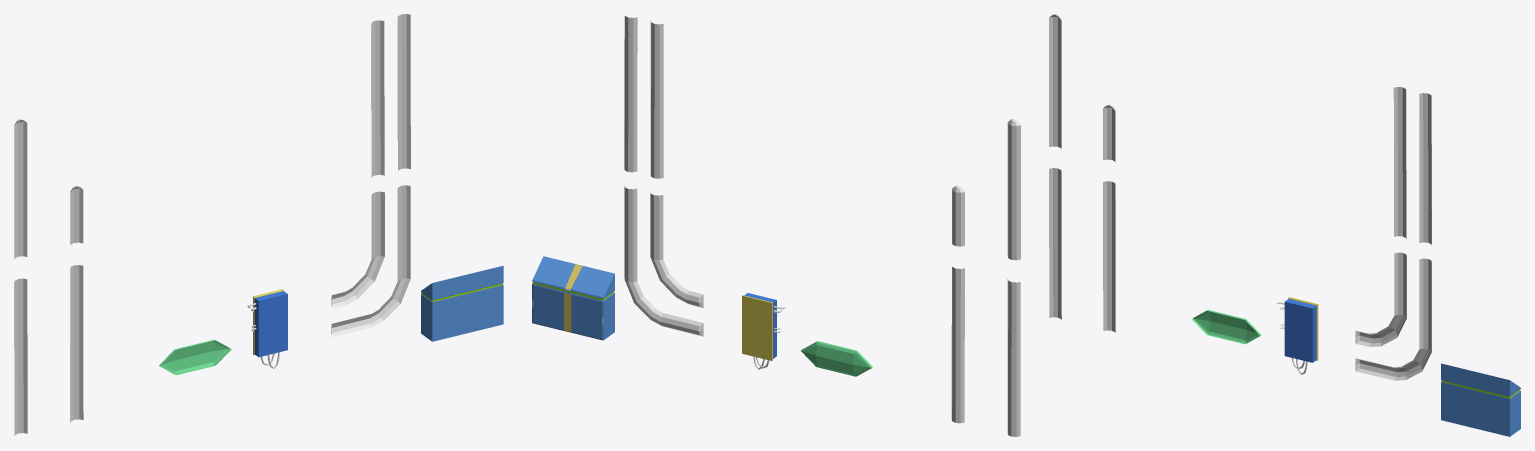
The model's file is CosasRelEnergia+DecoGeneralPEstructura.fbx.
3 renders of one model, left to right at view 1: azimuth 30°, elevation 25°; view 2: azimuth 150°, elevation 25°; view 3: azimuth 330°, elevation 25°, orthographic. The views are drawn at different scales.
Parts seen in each view (by area): view 1: No se como llamarlo, TuboPPuerta1, Transformador, TuboPPuertaArriba2, TuboAbajo1, TuboAbajo2, TuboPPuertaArriba1, TuboArriba1, TuboPPuerta2, Diam, TuboArriba2; view 2: No se como llamarlo, TuboPPuerta1, Transformador, TuboPPuertaArriba1, TuboAbajo1, TuboPPuertaArriba2, TuboAbajo2, TuboArriba1, TuboPPuerta2, Diam, TuboArriba2; view 3: No se como llamarlo, TuboPPuerta1, Transformador, TuboPPuertaArriba2, TuboAbajo1, TuboPPuertaArriba1, TuboAbajo2, TuboArriba1, TuboPPuerta2, Diam, TuboArriba2.
Part boxes in pixels (<box>): No se como llamarlo: <box>421,265,503,341</box>; TuboPPuerta1: <box>331,185,410,337</box>; Transformador: <box>247,289,287,368</box>; TuboPPuertaArriba2: <box>371,20,384,177</box>; TuboAbajo1: <box>14,278,27,435</box>; TuboAbajo2: <box>70,265,83,422</box>; TuboPPuertaArriba1: <box>397,14,410,170</box>; TuboArriba1: <box>14,119,27,259</box>; TuboPPuerta2: <box>331,191,384,308</box>; Diam: <box>159,339,231,375</box>; TuboArriba2: <box>70,185,83,244</box>; No se como llamarlo: <box>532,256,614,340</box>; TuboPPuerta1: <box>624,186,703,336</box>; Transformador: <box>742,293,785,369</box>; TuboPPuertaArriba1: <box>624,15,637,172</box>; TuboAbajo1: <box>1007,279,1020,436</box>; TuboPPuertaArriba2: <box>650,20,663,178</box>; TuboAbajo2: <box>951,266,964,423</box>; TuboArriba1: <box>1007,119,1020,260</box>; TuboPPuerta2: <box>650,192,703,307</box>; Diam: <box>800,341,872,376</box>; TuboArriba2: <box>952,186,964,246</box>; No se como llamarlo: <box>1441,363,1520,436</box>; TuboPPuerta1: <box>1355,258,1431,380</box>; Transformador: <box>1276,297,1318,374</box>; TuboPPuertaArriba2: <box>1393,87,1406,239</box>; TuboAbajo1: <box>1049,168,1061,320</box>; TuboPPuertaArriba1: <box>1419,93,1431,245</box>; TuboAbajo2: <box>1103,181,1115,332</box>; TuboArriba1: <box>1049,14,1061,149</box>; TuboPPuerta2: <box>1355,252,1406,346</box>; Diam: <box>1191,310,1261,344</box>; TuboArriba2: <box>1103,104,1115,162</box>.
Bounding box in the file's own units: 982 × 634 × 40.85.
